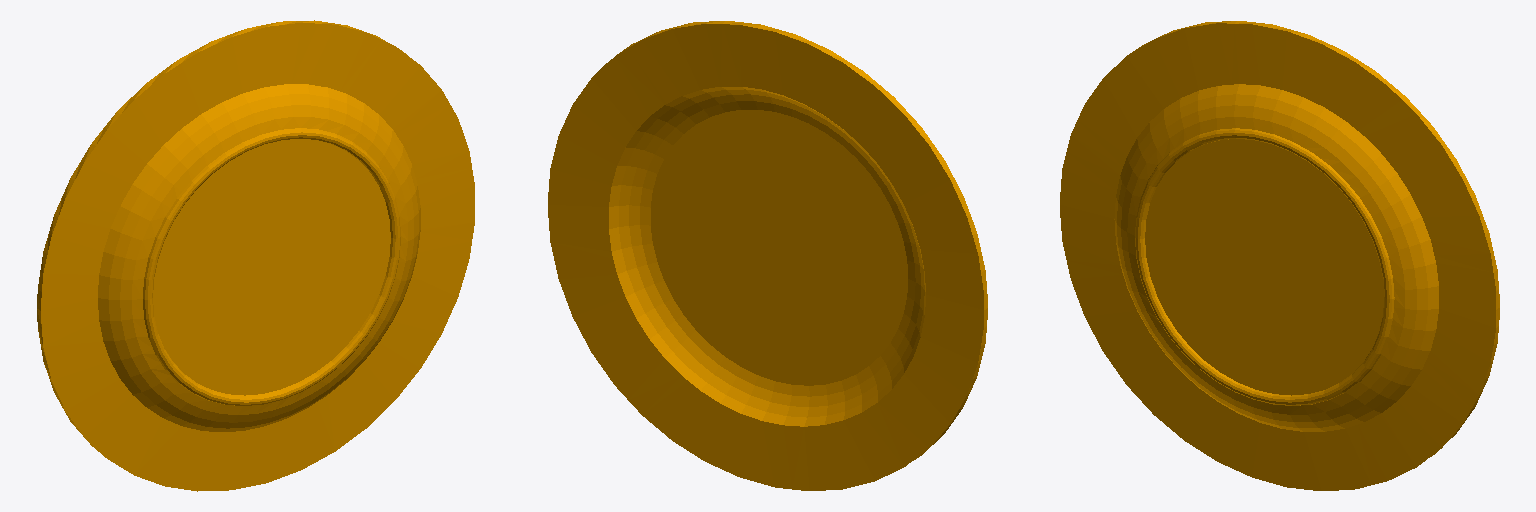
URDF robot description (plate_11in):
<?xml version="1.0"?>
<robot name="plate_11in">
  <link name="plate_11in">
    <inertial>
      <mass value="0.282"/>
      <!-- Inertia values are approximate, assuming constant density
           cylinder. -->
      <inertia ixx="0.005" ixy="0" ixz="0" iyy="0.005" iyz="0" izz="0.011"/>
    </inertial>
    <visual>
      <geometry>
        <!-- Saved in mm -->
        <mesh filename="meshes/visual/plate_11in.obj" scale="0.001"/>
      </geometry>
    </visual>
    <collision concave="yes">
      <geometry>
        <mesh filename="meshes/collision/plate_11in.obj" scale="0.001"/>
      </geometry>
    </collision>
    <contact_coefficients kd="1.0" kp="1000.0" mu="0.8"/>
  </link>
</robot>

--- Render facts (derived) ---
Views: 3 orthographic renders of the robot side by side, from view 1: azimuth 30°, elevation 25°; view 2: azimuth 150°, elevation 25°; view 3: azimuth 330°, elevation 25°.
Model plate_11in with 1 links and 0 joints (none), rooted at plate_11in, posed all joints at 0.
Visible links, largest first — view 1: plate_11in; view 2: plate_11in; view 3: plate_11in.
Link boxes in pixels (x1=…): plate_11in: x1=37, y1=20, x2=474, y2=491; plate_11in: x1=548, y1=21, x2=987, y2=490; plate_11in: x1=1060, y1=21, x2=1499, y2=490.
Size in the robot's own frame: 0.2797 by 0.023 by 0.2796 metres.
Meshes: 1 distinct files referenced, 1 mesh visuals loaded (1 OBJ).